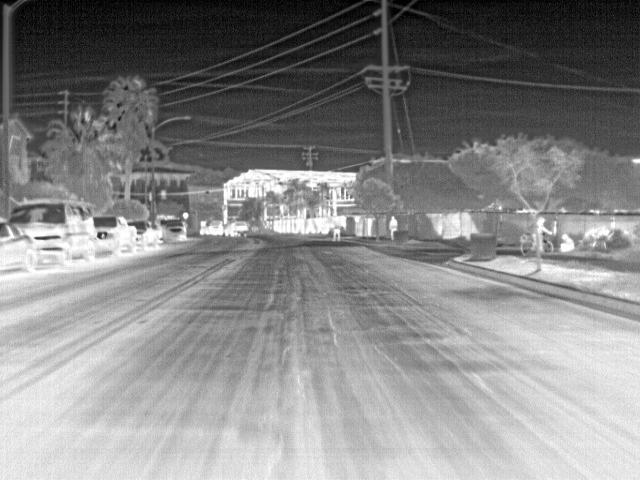car: (13, 198, 96, 264), (1, 215, 38, 274), (92, 216, 136, 256), (134, 220, 160, 248), (161, 218, 188, 244), (224, 220, 247, 238), (204, 220, 226, 237)
person: (530, 219, 548, 238), (559, 233, 574, 254), (331, 218, 343, 244), (387, 214, 397, 240)
